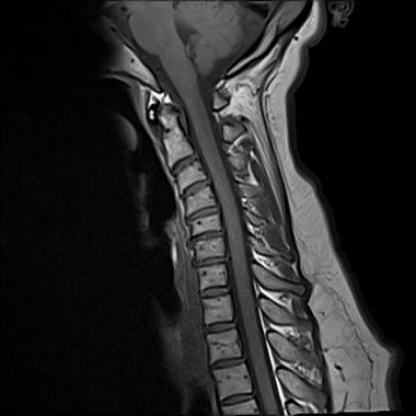Disc Protrusionrotation: (187, 229, 227, 247), (184, 206, 222, 222), (178, 182, 214, 198), (193, 255, 229, 270)
